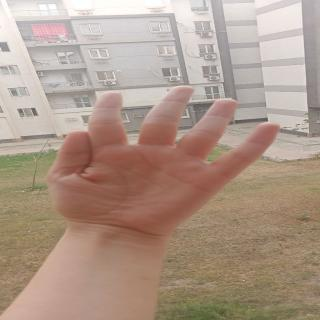SHEEN: (46, 82, 285, 233)
